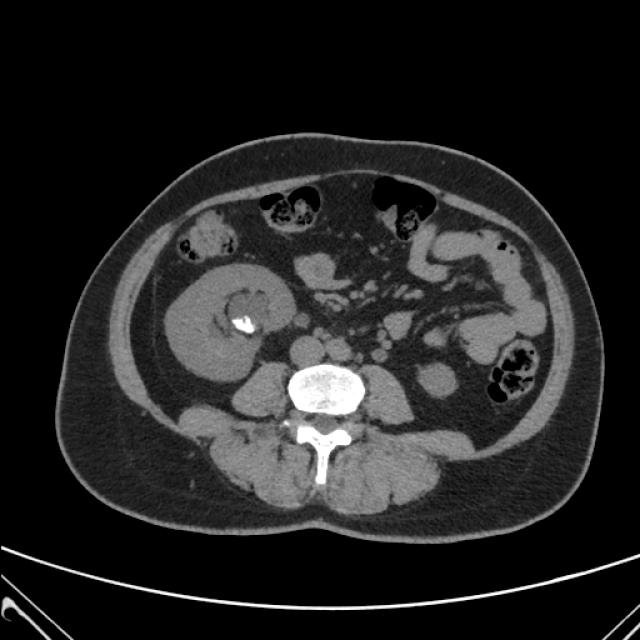kidney: (164, 252, 308, 391), (413, 350, 466, 407)
stone: (221, 303, 268, 347)
